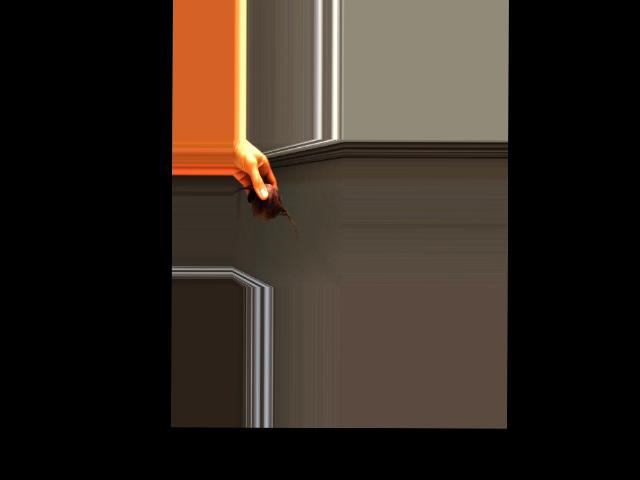beet: (231, 184, 297, 239)
